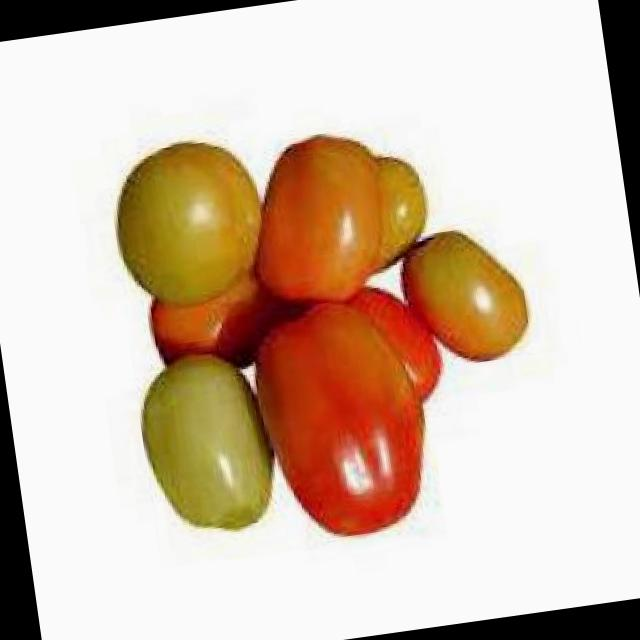Fresh_Tomato: (235, 278, 450, 564), (226, 120, 407, 330), (95, 122, 275, 322), (385, 214, 546, 380)
